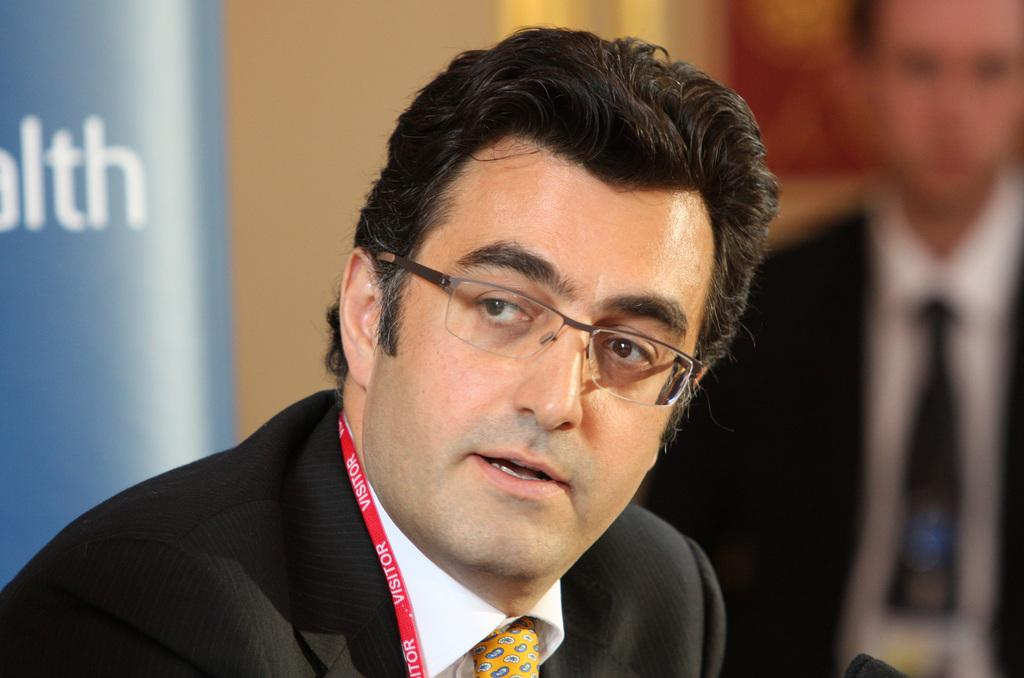Sem Máscara: (375, 132, 713, 579), (871, 0, 1022, 193)
